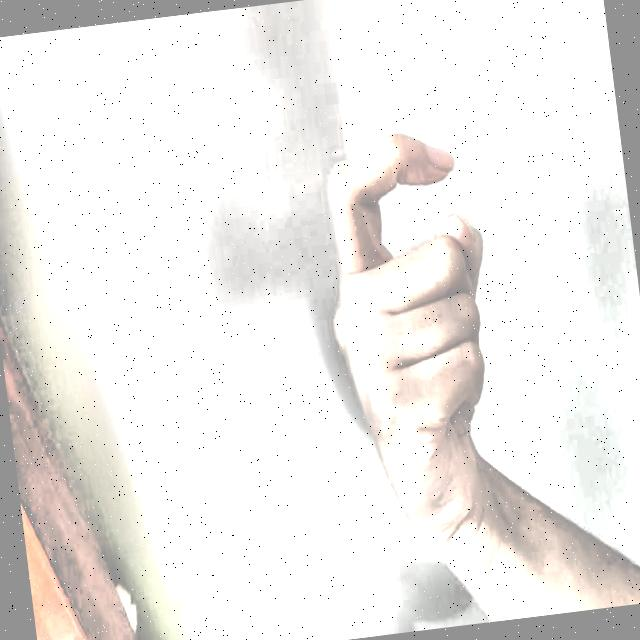E: (281, 87, 554, 523)
